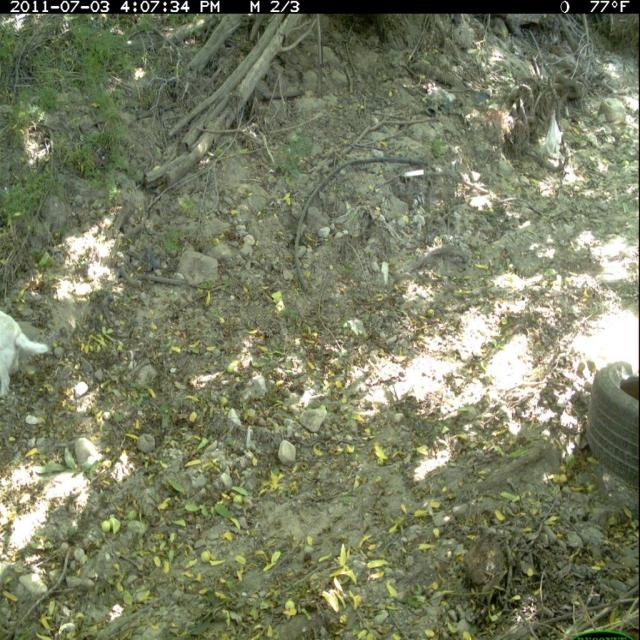dog: (1, 302, 57, 419)
